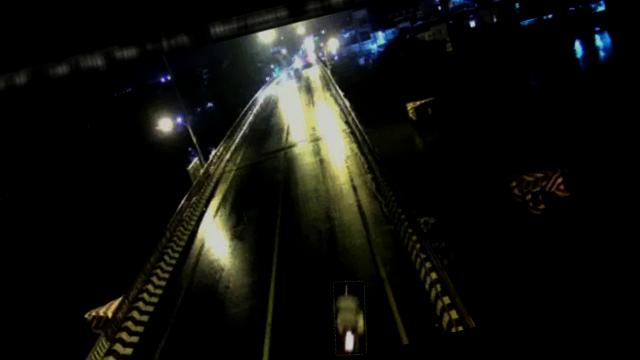Bike: (323, 278, 378, 360)
